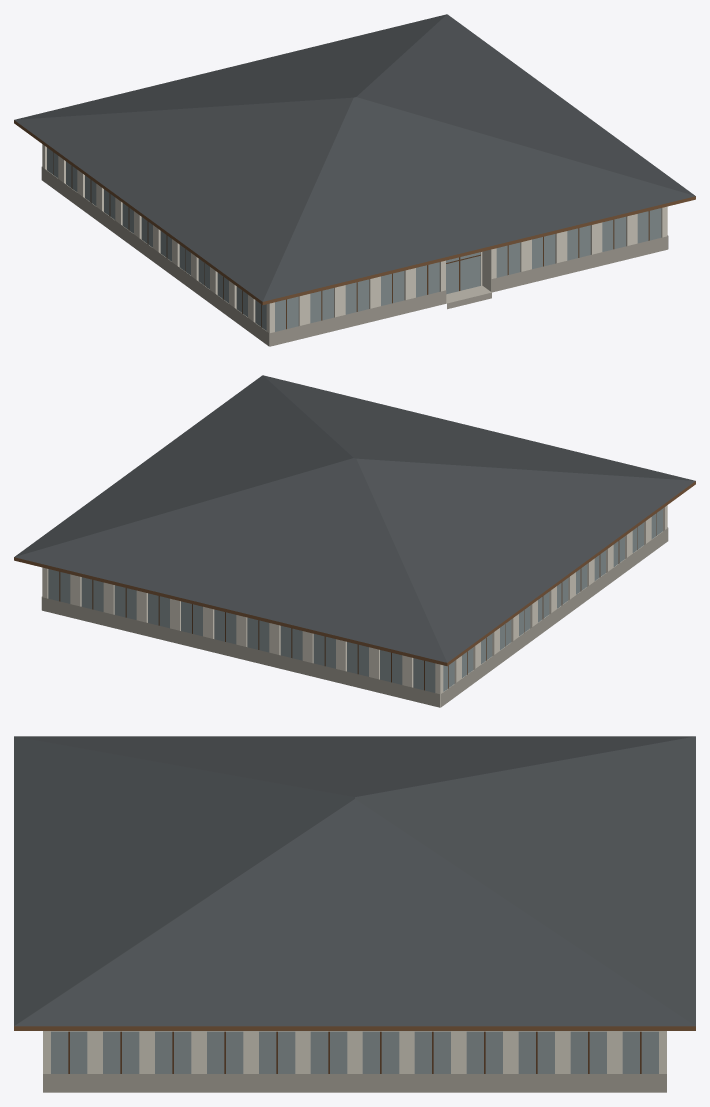
3 views of the same model, one above another, from view 1: azimuth 30°, elevation 25°; view 2: azimuth 150°, elevation 25°; view 3: azimuth 270°, elevation 25° (orthographic). The views are drawn at different scales.
Visible parts, largest first — view 1: history__roofAccent, history__glass, history__base, history__wall, history__trim, history__frame; view 2: history__roofAccent, history__glass, history__base, history__wall, history__trim, history__frame; view 3: history__roofAccent, history__glass, history__base, history__wall, history__trim, history__frame.
Boxes of the visible parts, x1,y1,x2,y2 form: history__roofAccent: (14,14,695,301); history__glass: (47,147,661,331); history__base: (41,166,668,346); history__wall: (42,144,667,346); history__trim: (14,120,695,305); history__frame: (53,152,649,329); history__roofAccent: (14,375,695,662); history__glass: (48,508,662,692); history__base: (41,527,668,707); history__wall: (42,505,667,707); history__trim: (14,481,695,666); history__frame: (59,513,656,690); history__roofAccent: (14,736,695,1026); history__glass: (51,1031,658,1073); history__base: (43,1074,666,1092); history__wall: (43,1031,666,1073); history__trim: (14,1026,695,1030); history__frame: (68,1031,641,1073).
Bounding box in the file's own units: 33.6 × 9.1 × 33.4.
